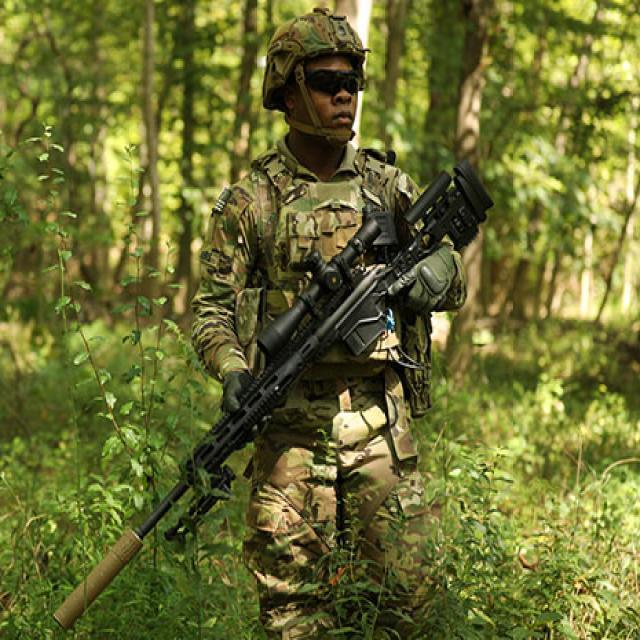rifle: (45, 148, 518, 632)
